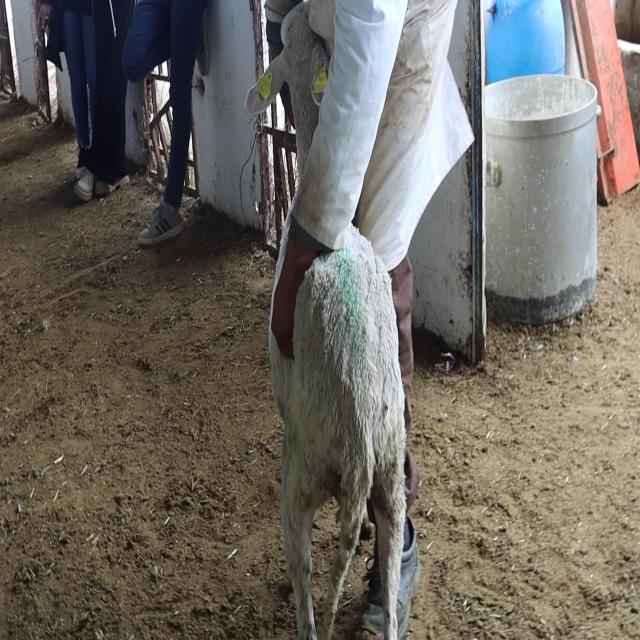Score_1: (269, 225, 406, 639)
